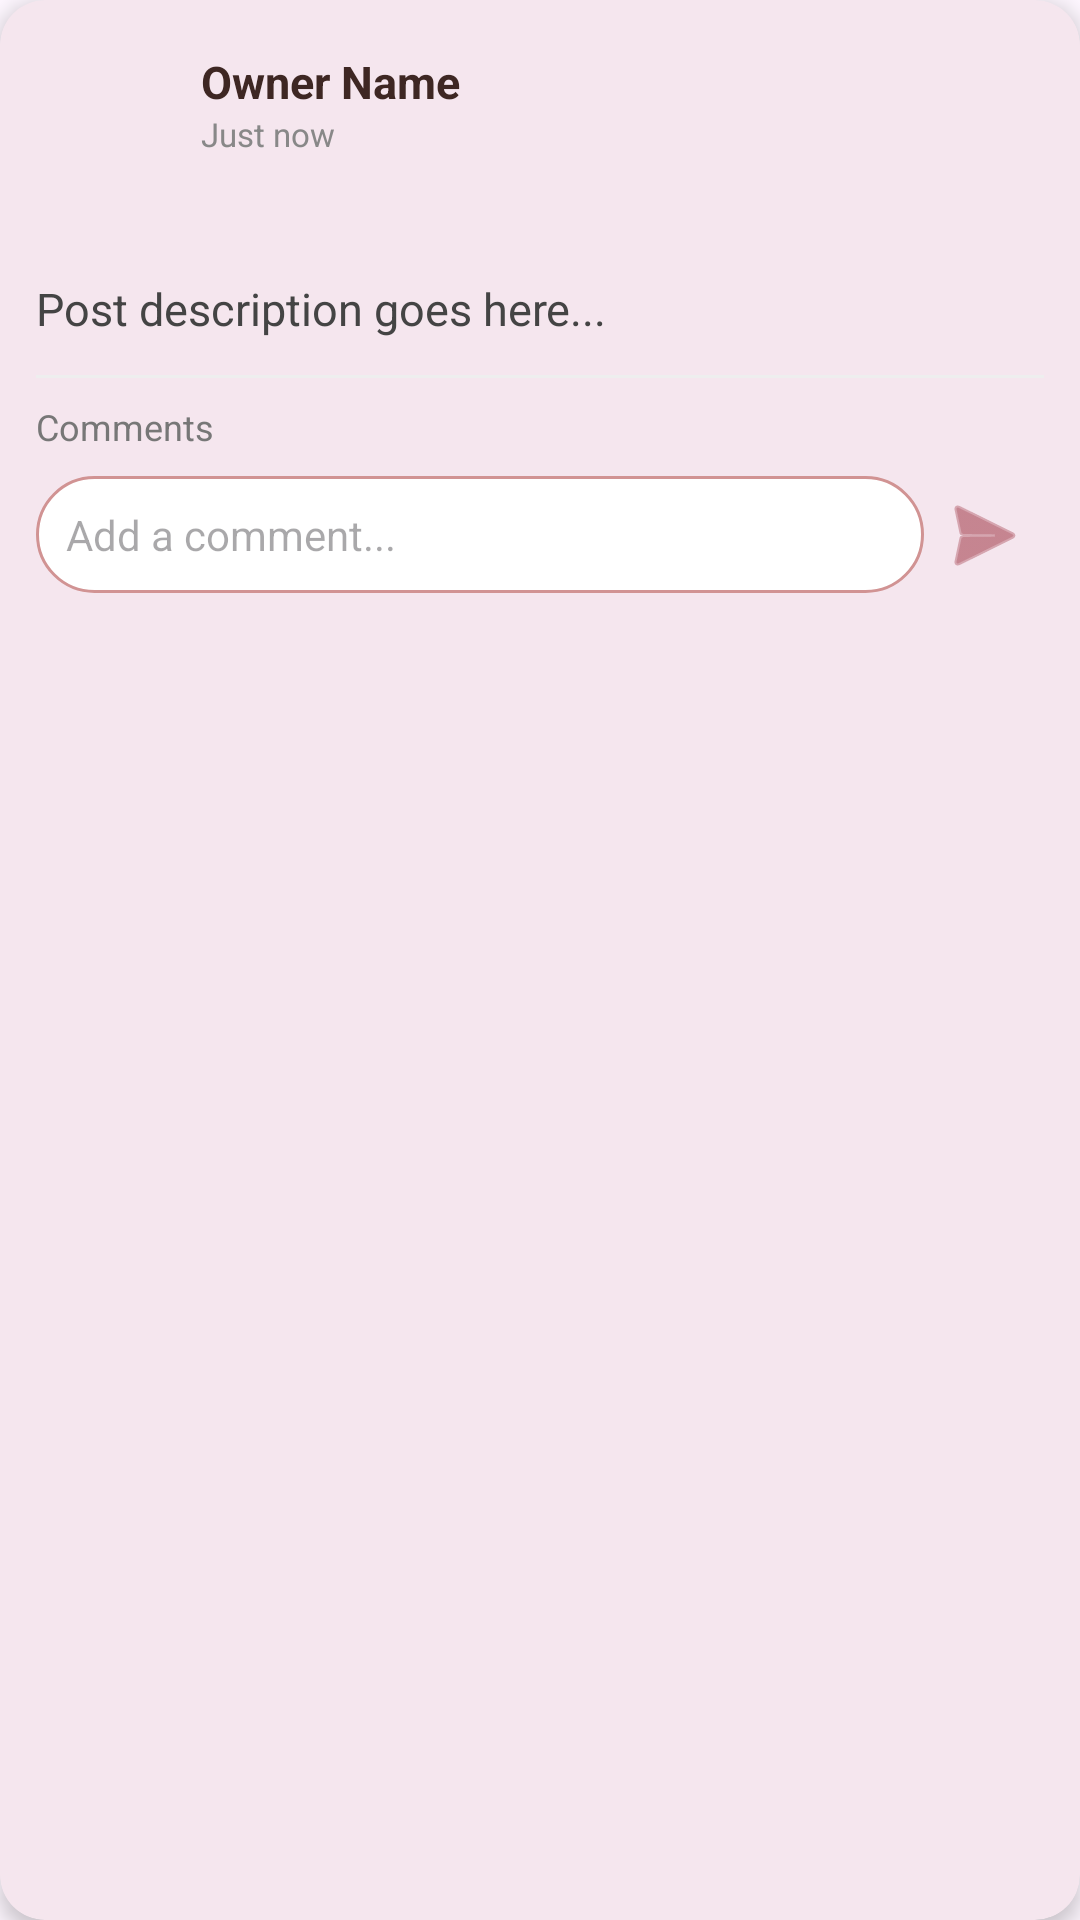

Where to tap for icons on this 1080px×1920px app screen, as point (x, y):
send: point (984, 535)
